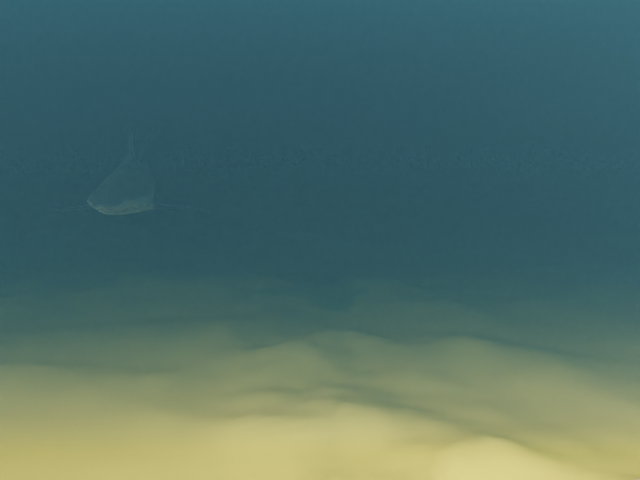Carribean Shark.001: (52, 129, 211, 215)
